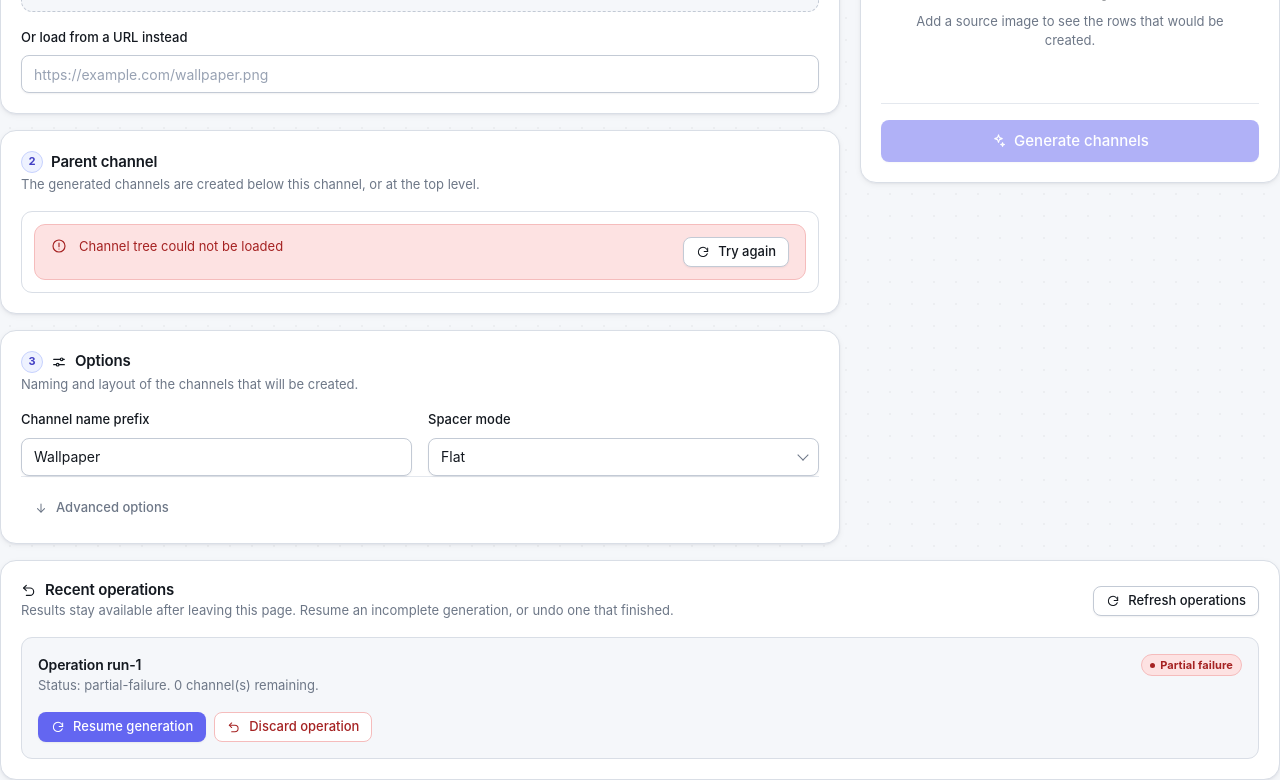
Test case: allows safe cleanup of an incomplete operation with zero recorded channels
(page scrolled)
Click the button "Discard operation". click: point(293, 727)
box: top-left (214, 712), bottom-right (372, 742)
(page scrolled)
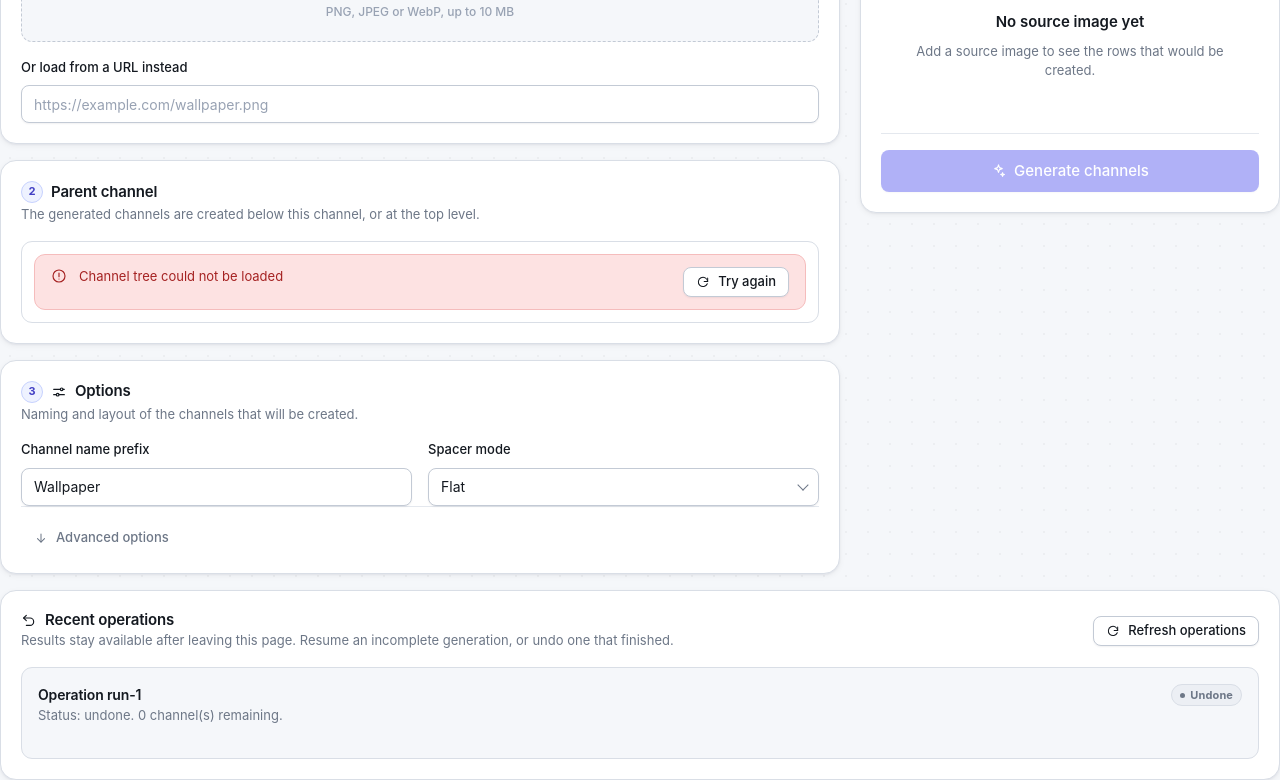
Check: the button "Discard operation" is gone
